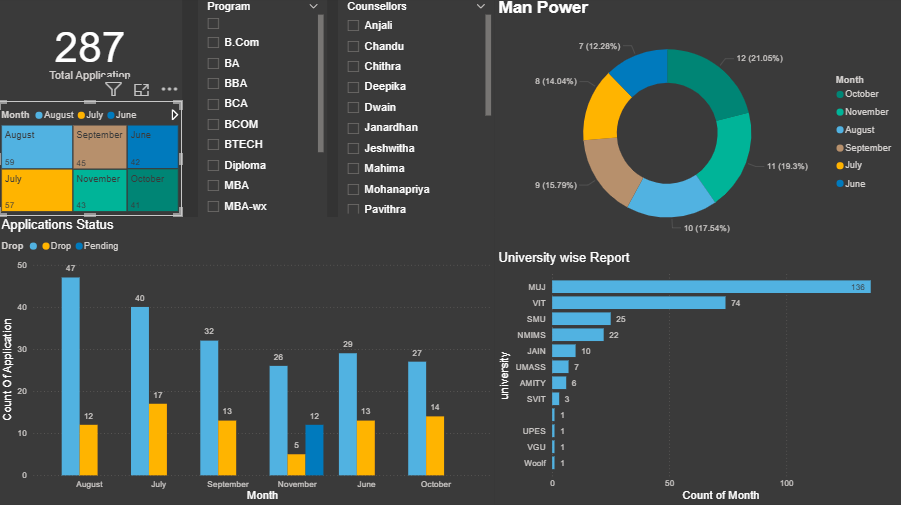

Layout of this report page (visuals, bound fields, positions):
{"tool":"powerbi","page":{"name":"Application Report","canvas":[1280,720],"ordinal":0},"visuals":[{"type":"clusteredColumnChart","title":"Applications Status","fields":{"Category":["Table (2).Month"],"Y":["CountNonNull(Table (2).Candidate)"],"Series":["Table (2).Drop"]},"box":[0,311.6,704.3,408.5],"z":0},{"type":"card","fields":{"Values":["CountNonNull(Table (2).Candidate)"]},"box":[0,0,260.6,147.9],"z":1000},{"type":"slicer","fields":{"Values":["Table (2).Counsellors"]},"box":[482.4,0,221.8,311.6],"z":2000},{"type":"slicer","fields":{"Values":["Table (2).Program"]},"box":[283.5,0,183.1,311.6],"z":3000},{"type":"donutChart","title":"Man Power","fields":{"Y":["Sum(Table (2).Man Power)"],"Category":["Table (2).Month"]},"box":[703.8,0,576.2,359.5],"z":4000},{"type":"treemap","fields":{"Details":["Table (2).Month"],"Values":["CountNonNull(Table (2).Month)"]},"box":[0,147.9,260.6,162],"z":5000},{"type":"clusteredBarChart","title":"University wise Report","fields":{"Category":["Table (2).university"],"Y":["CountNonNull(Table (2).Month)"]},"box":[704.3,359.2,575.7,360.9],"z":6000}]}

Visuals, with their boxes in screenshot pixels (x1, y1, x2, y2), scaled from the page's 1280x720 canvas onto the 901x505 screenshot:
"Applications Status" clusteredColumnChart: left=0, top=219, right=496, bottom=504
card - CountNonNull(Table (2).Candidate): left=0, top=0, right=183, bottom=104
slicer - Table (2).Counsellors: left=340, top=0, right=496, bottom=219
slicer - Table (2).Program: left=200, top=0, right=328, bottom=219
"Man Power" donutChart: left=495, top=0, right=900, bottom=252
treemap - Table (2).Month x CountNonNull(Table (2).Month): left=0, top=104, right=183, bottom=217
"University wise Report" clusteredBarChart: left=496, top=252, right=900, bottom=504
